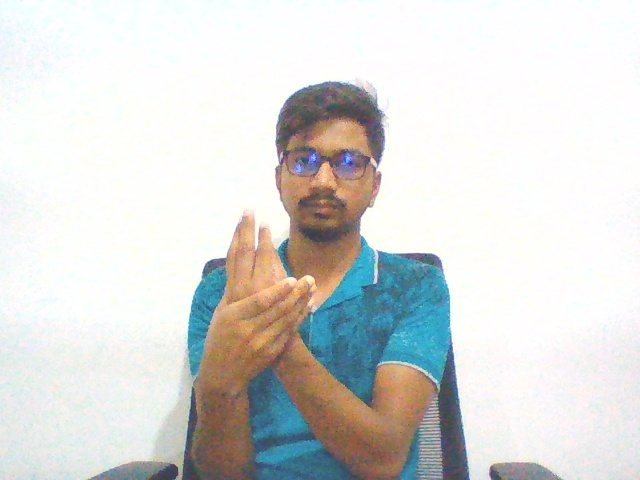tree: (177, 197, 322, 404)
